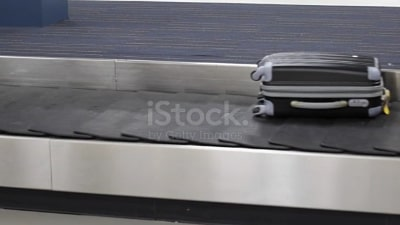baggage: (248, 50, 394, 129)
